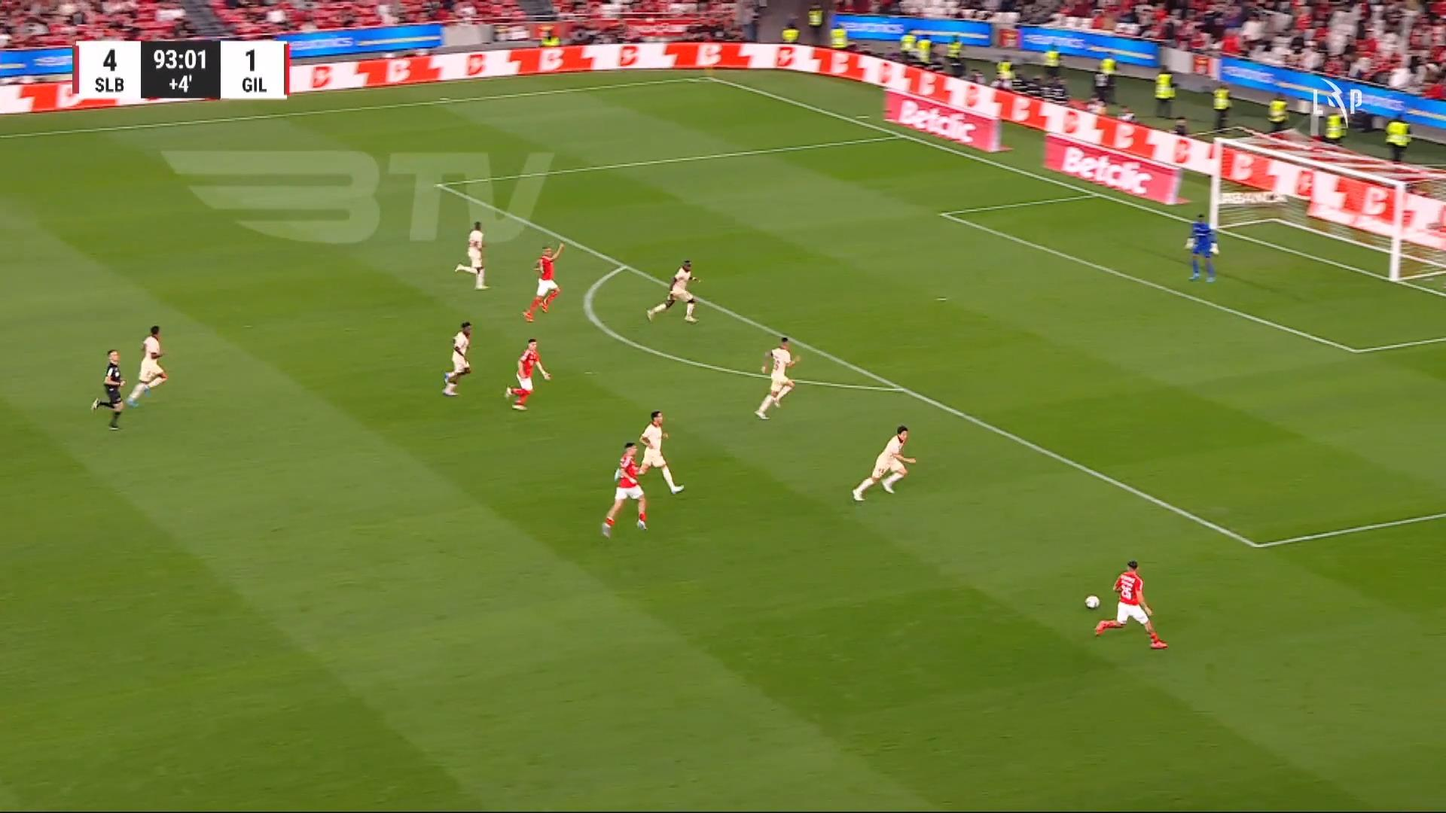ball: (1084, 595, 1100, 610)
goalkeeper: (1184, 212, 1219, 282)
player: (1094, 559, 1167, 649), (851, 425, 917, 502), (600, 441, 648, 538), (634, 410, 685, 495), (753, 335, 800, 419), (645, 258, 700, 324), (125, 324, 168, 407), (503, 337, 551, 410), (522, 242, 564, 322), (453, 220, 490, 290), (441, 321, 472, 396)
referee: (90, 349, 127, 430)
